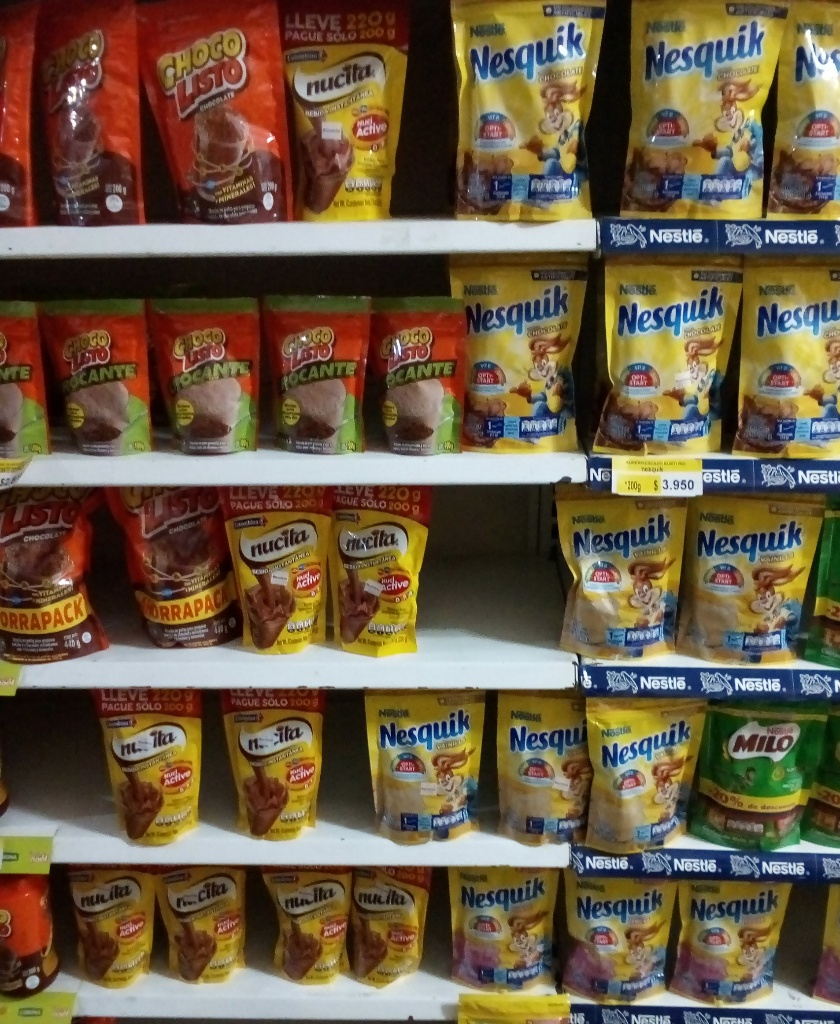COL0170102DYP10000: (42, 295, 156, 459)
COL0170103DYP20000: (42, 0, 157, 228)
COL0170103DYP44000: (105, 483, 239, 659)
COL0170103TRR30000: (0, 878, 61, 997)
COL0170203DYP25000: (702, 693, 828, 853)
COL0170303DYP20000: (457, 253, 603, 451)
COL0170305DYP20000: (447, 870, 562, 996)
COL0170306DYP20000: (564, 490, 682, 665)
